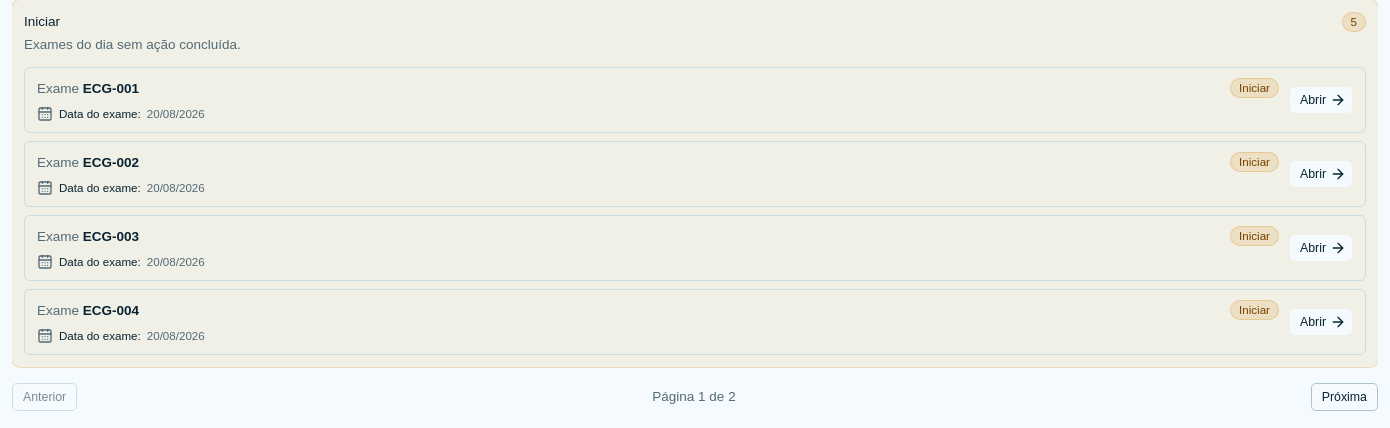
Test case: DashboardPage › mantém quatro exames por página e expõe a navegação somente quando necessária
The width and height of the screenshot is (1390, 428).
Expected: the number of list items is 4, x1=24 y1=67 x2=1366 y2=133; x1=24 y1=141 x2=1366 y2=207; x1=24 y1=215 x2=1366 y2=281; x1=24 y1=289 x2=1366 y2=355
Expected: the button with aria-label "página anterior" is disabled, x1=12 y1=383 x2=77 y2=411
Click the button with aria-label "próxima página". click: (1344,397)
box: x1=1311 y1=383 x2=1378 y2=411
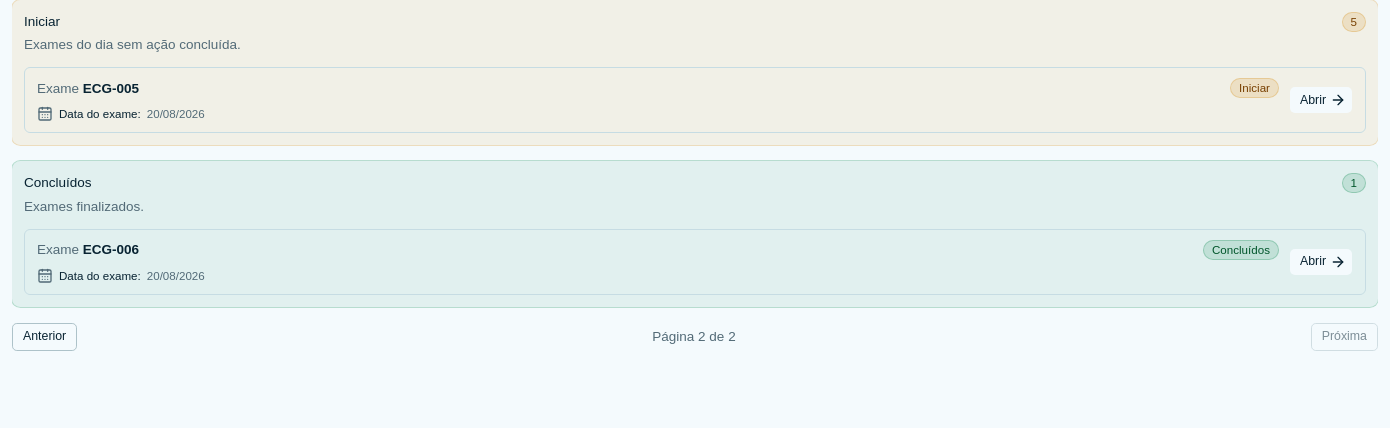
Expected: the number of list items is 2, x1=24 y1=67 x2=1366 y2=133; x1=24 y1=228 x2=1366 y2=294
Expected: the text "Página 2 de 2" is shown, x1=652 y1=326 x2=736 y2=346
Expected: the button with aria-label "página anterior" is enabled, x1=12 y1=322 x2=77 y2=350
